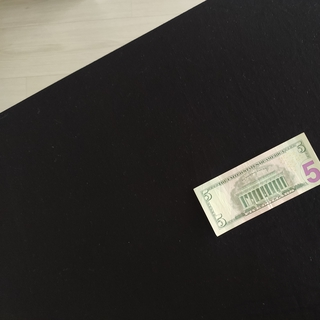5USDBack: (192, 131, 320, 237)
